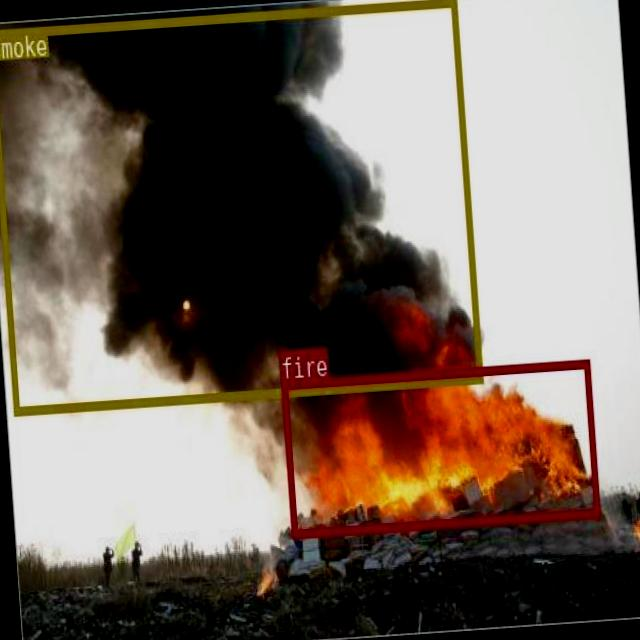fire: (281, 357, 598, 537)
smoke: (0, 0, 481, 414)
